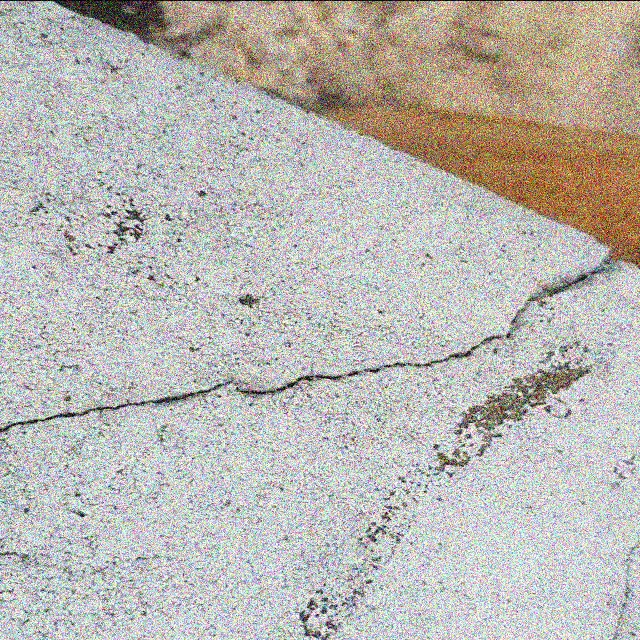SurfaceCrack: (1, 190, 640, 639)
